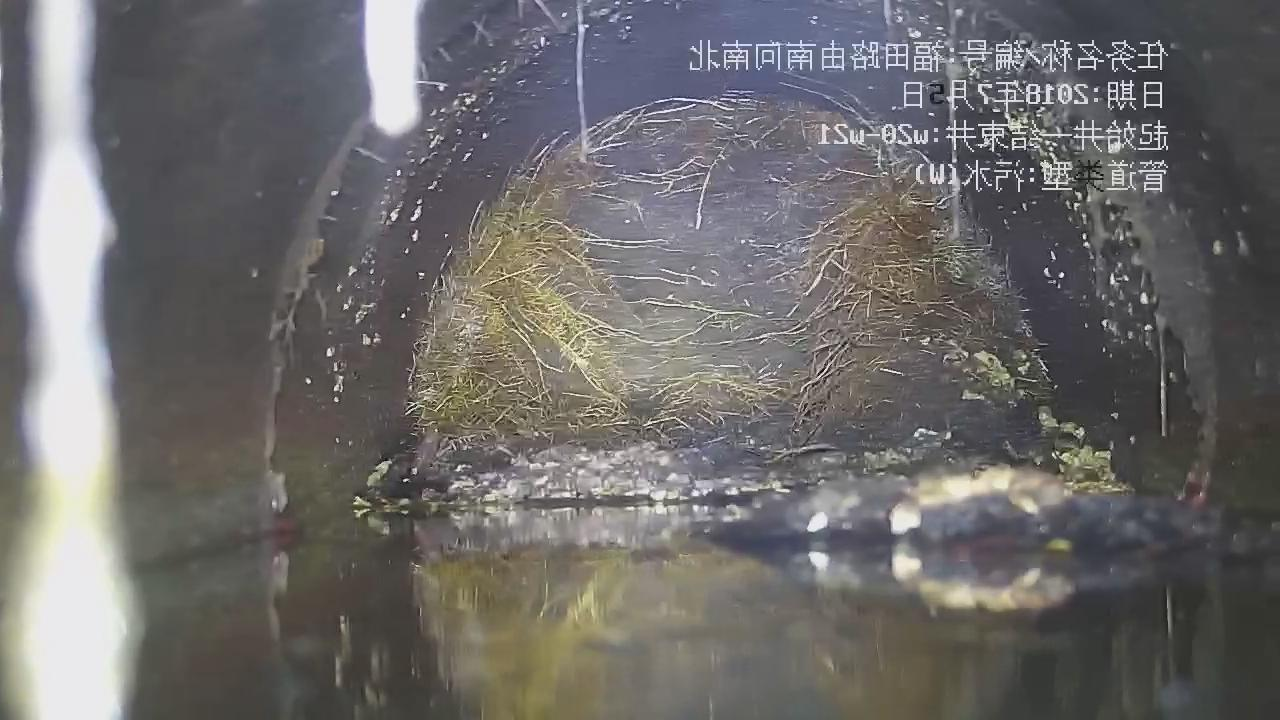SG: (411, 96, 1059, 448)
